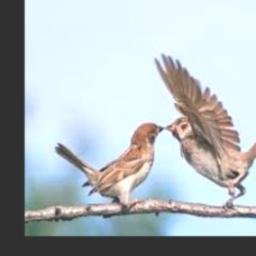Sparrow: (154, 55, 256, 207), (54, 122, 163, 211)
